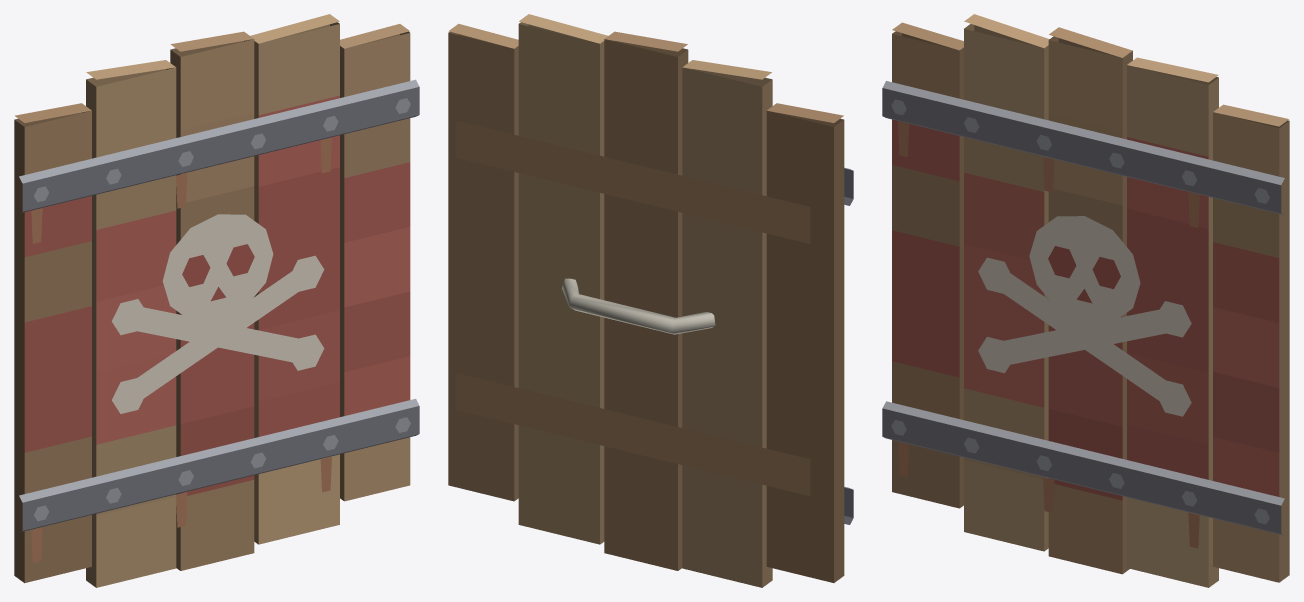
The model's file is shield.glb.
3 renders of one model, left to right at view 1: azimuth 30°, elevation 25°; view 2: azimuth 150°, elevation 25°; view 3: azimuth 330°, elevation 25°, orthographic.
Visible parts, largest first — view 1: shield; view 2: shield; view 3: shield.
Part boxes in pixels (left/top/right/bottom): shield: left=14, top=14, right=419, bottom=587; shield: left=448, top=14, right=853, bottom=587; shield: left=882, top=14, right=1289, bottom=587.
Size of the model in its own units: 1.12 by 1.4 by 0.1744.
